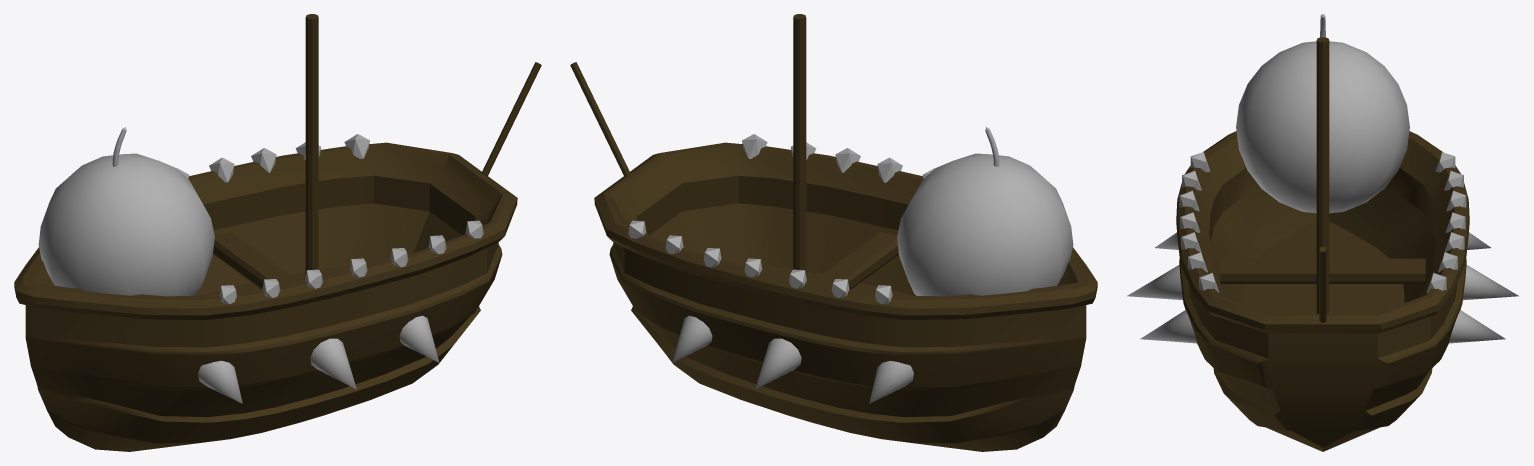
The model's file is ZombieEnemyTier2.fbx.
3 renders of one model, left to right at view 1: azimuth 30°, elevation 25°; view 2: azimuth 150°, elevation 25°; view 3: azimuth 270°, elevation 25°, orthographic.
Visible parts, largest first — view 1: polySurface16, pPlatonic9; view 2: polySurface16, pPlatonic9; view 3: polySurface16, pPlatonic9.
Boxes of the visible parts, box(x1,y1,x2,y2) form: polySurface16: box(14, 14, 541, 451); pPlatonic9: box(38, 127, 483, 403); polySurface16: box(570, 14, 1097, 451); pPlatonic9: box(628, 127, 1073, 403); polySurface16: box(1176, 37, 1469, 451); pPlatonic9: box(1127, 14, 1518, 343).
Size of the model in its own units: 3.4 by 2.45 by 2.24.
